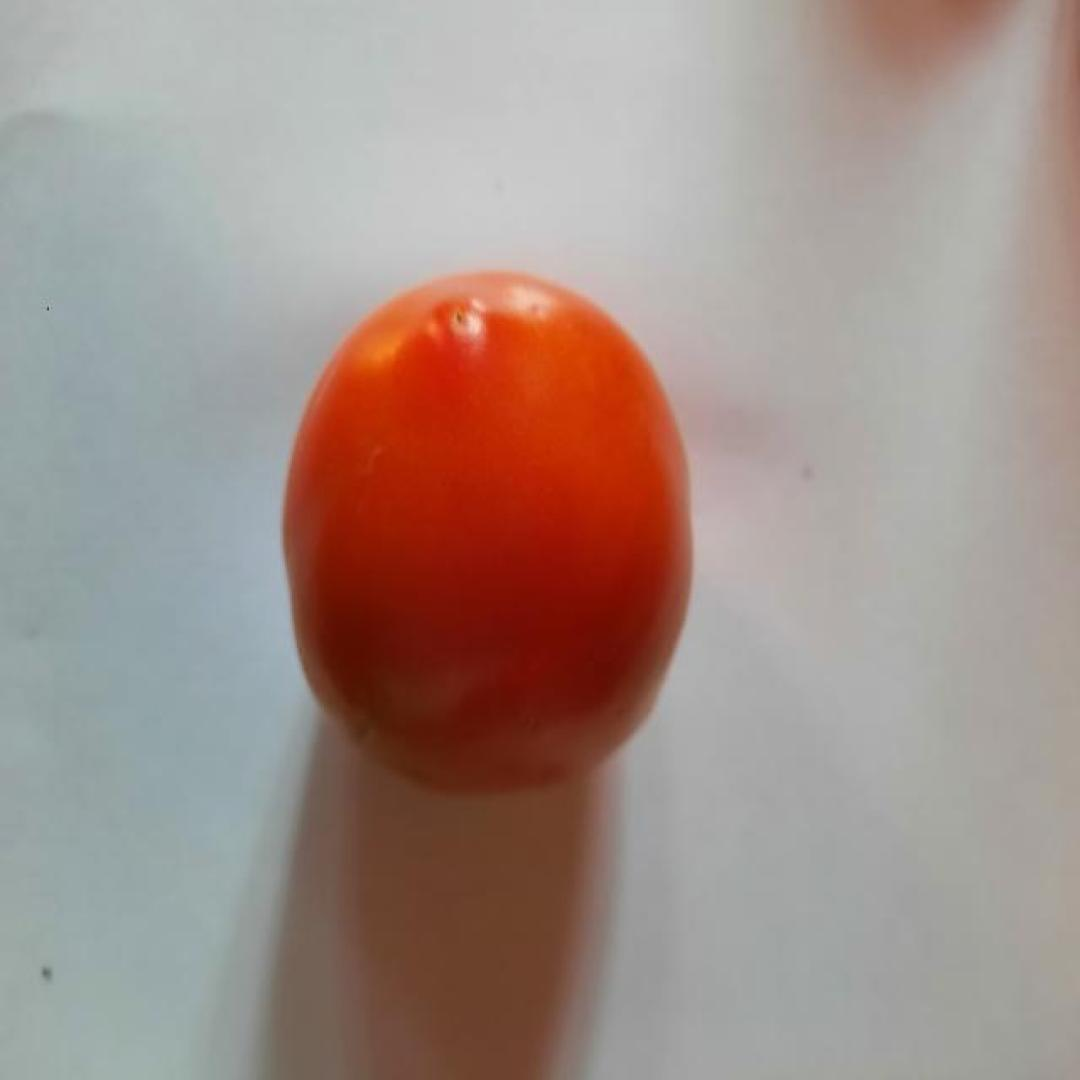matang: (280, 265, 695, 796)
